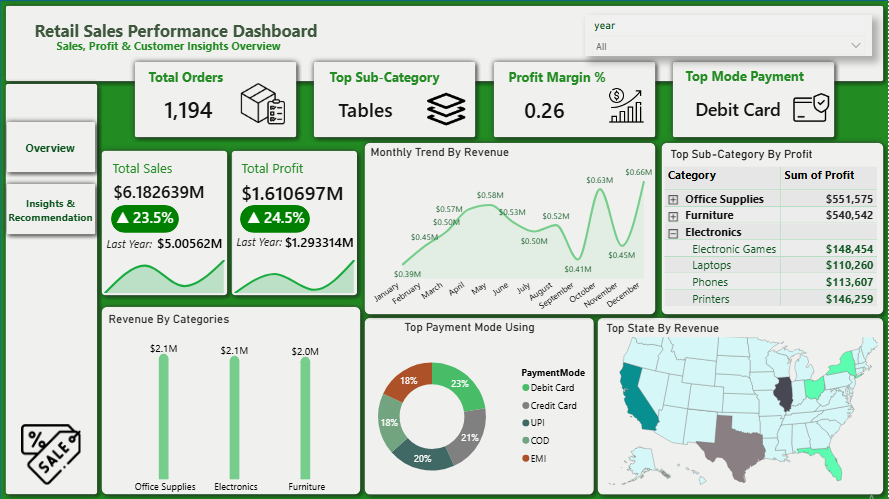

The page's visual inventory and layout, read from the dashboard file:
{"tool":"powerbi","page":{"name":"overview","canvas":[1280,720],"ordinal":0},"visuals":[{"type":"shape","box":[0,0,1279.7,720.3],"z":0},{"type":"shape","box":[0,0,1280.2,125.3],"z":1000},{"type":"shape","box":[960.5,80.6,249.1,125.3],"z":2000},{"type":"shape","box":[325.4,208.8,197,224.6],"z":3000},{"type":"shape","box":[185.8,80.6,249.1,125.3],"z":4000},{"type":"shape","box":[0,112.3,148.3,607.7],"z":5000},{"type":"shape","box":[703,80.6,249.1,125.3],"z":6000},{"type":"shape","box":[444,80.6,249.1,125.3],"z":7000},{"type":"shape","box":[138.2,433.4,388.8,286.6],"z":8000},{"type":"shape","box":[517.4,449.3,346.4,271],"z":9000},{"type":"shape","box":[852.2,449.3,427.5,271],"z":10000},{"type":"shape","box":[517,197.3,434.9,263.5],"z":11000},{"type":"shape","box":[944.6,197.3,335.5,263.5],"z":12000},{"type":"textbox","box":[208.8,93.6,136.8,51.8],"z":13000},{"type":"textbox","box":[44.9,21.7,500,59.4],"z":14000},{"type":"textbox","box":[76.8,50.7,500,59.4],"z":15000},{"type":"textbox","box":[727.2,93.6,175.7,51.8],"z":16000},{"type":"textbox","box":[469.4,93.6,213.1,51.8],"z":17000},{"type":"textbox","box":[982.1,92.2,205.9,51.8],"z":18000},{"type":"cardVisual","fields":{"Data":["date.total orders"]},"box":[207.4,112.3,139.7,86.4],"z":19000},{"type":"image","box":[345.6,89.3,66.2,119.5],"z":20000},{"type":"shape","box":[138.2,208.8,197.3,224.6],"z":21000},{"type":"cardVisual","fields":{"Data":["date.total sales"]},"box":[134,234.7,198.7,80.6],"z":22000},{"type":"cardVisual","fields":{"Data":["date.Top sub category"]},"box":[457.9,102.2,204.5,106.6],"z":23000},{"type":"cardVisual","fields":{"Data":["date.profit margin %"]},"box":[725.8,112.3,167,87.8],"z":24000},{"type":"cardVisual","fields":{"Data":["date.Top paymeny mode"]},"box":[972,109.4,205.9,90.7],"z":25000},{"type":"image","box":[1113.1,126.7,109.4,57.6],"z":26000},{"type":"image","box":[875.5,105.1,53.3,93.6],"z":27000},{"type":"image","box":[576,129.6,132.5,54.7],"z":28000},{"type":"textbox","box":[157,224.6,138.2,50.4],"z":29000},{"type":"shape","box":[159.8,295.2,97.9,40.3],"z":30000},{"type":"cardVisual","fields":{"Data":["date.yoy growth %"]},"box":[138.2,275,157,66.2],"z":31000},{"type":"textbox","box":[148.3,335.5,138.2,50.4],"z":32000},{"type":"cardVisual","fields":{"Data":["date.sales ly"]},"box":[200.2,315.4,190.1,66.2],"z":33000},{"type":"textbox","box":[342.7,224.6,138.2,50.4],"z":34000},{"type":"cardVisual","fields":{"Data":["date.total profit"]},"box":[318.2,234.7,231.8,80.6],"z":35000},{"type":"shape","box":[345.6,295.2,100.8,40.3],"z":36000},{"type":"cardVisual","fields":{"Data":["date.profit yoy %"]},"box":[326.9,275,157,66.2],"z":37000},{"type":"textbox","box":[336,332,138.2,50.4],"z":38000},{"type":"cardVisual","fields":{"Data":["date.profit ly"]},"box":[385.9,318.2,190.1,66.2],"z":39000},{"type":"lineChart","fields":{"Y":["Sum(sales_cleaned.revenue)"],"Category":["sales_cleaned.Year-Month.Variation.Date Hierarchy.Quarter"]},"box":[123.8,361.4,226.1,66.2],"z":40000},{"type":"lineChart","fields":{"Category":["sales_cleaned.Year-Month.Variation.Date Hierarchy.Quarter"],"Y":["Sum(sales_cleaned.Profit)"]},"box":[311,361.4,226.1,66.2],"z":41000},{"type":"slicer","fields":{"Values":["date.year"]},"box":[842.4,21.6,413.3,59],"z":42000},{"type":"columnChart","title":"Revenue By Categories","fields":{"Category":["sales_cleaned.Category"],"Y":["Sum(sales_cleaned.revenue)"]},"box":[151.2,449.3,377.3,270.7],"z":43000},{"type":"donutChart","title":"Top Payment Mode Using","fields":{"Category":["sales_cleaned.PaymentMode"],"Y":["Sum(sales_cleaned.revenue)"]},"box":[488.2,460.8,375.8,259.2],"z":44000},{"type":"lineChart","title":"Monthly Trend By Revenue","fields":{"Category":["sales_cleaned.Year-Month.Variation.Date Hierarchy.Month"],"Y":["Sum(sales_cleaned.revenue)"]},"box":[528.5,208.8,416.2,259.2],"z":45000},{"type":"shapeMap","title":"Top State By Revenue","fields":{"Category":["sales_cleaned.State"],"Series":["sales_cleaned.revenue"]},"box":[864,460.8,404.6,259.2],"z":46000},{"type":"pivotTable","fields":{"Rows":["sales_cleaned.Category","sales_cleaned.Sub-Category"],"Values":["Sum(sales_cleaned.Profit)"]},"box":[951.8,234.7,316.8,221.8],"z":47000},{"type":"textbox","box":[960.5,205.9,262.1,50.4],"z":48000},{"type":"shape","box":[1.4,256.3,144,89.3],"z":49000},{"type":"actionButton","box":[4.3,270.7,136.8,64.8],"z":50000},{"type":"shape","box":[1.4,167,144,89.3],"z":51000},{"type":"textbox","box":[31.7,197.3,102.2,50.4],"z":52000},{"type":"image","box":[30.2,604.8,86.4,99.4],"z":53000}]}

Visuals, with their boxes in screenshot pixels (x1, y1, x2, y2), scaled from the page's 1280x720 canvas onto the 889x499 screenshot:
shape: (x1=0, y1=0, x2=888, y2=498)
shape: (x1=0, y1=0, x2=888, y2=87)
shape: (x1=667, y1=56, x2=840, y2=143)
shape: (x1=226, y1=145, x2=363, y2=300)
shape: (x1=129, y1=56, x2=302, y2=143)
shape: (x1=0, y1=78, x2=103, y2=498)
shape: (x1=488, y1=56, x2=661, y2=143)
shape: (x1=308, y1=56, x2=481, y2=143)
shape: (x1=96, y1=300, x2=366, y2=498)
shape: (x1=359, y1=311, x2=600, y2=498)
shape: (x1=592, y1=311, x2=888, y2=498)
shape: (x1=359, y1=137, x2=661, y2=319)
shape: (x1=656, y1=137, x2=888, y2=319)
textbox: (x1=145, y1=65, x2=240, y2=101)
textbox: (x1=31, y1=15, x2=378, y2=56)
textbox: (x1=53, y1=35, x2=401, y2=76)
textbox: (x1=505, y1=65, x2=627, y2=101)
textbox: (x1=326, y1=65, x2=474, y2=101)
textbox: (x1=682, y1=64, x2=825, y2=100)
cardVisual - date.total orders: (x1=144, y1=78, x2=241, y2=138)
image: (x1=240, y1=62, x2=286, y2=145)
shape: (x1=96, y1=145, x2=233, y2=300)
cardVisual - date.total sales: (x1=93, y1=163, x2=231, y2=219)
cardVisual - date.Top sub category: (x1=318, y1=71, x2=460, y2=145)
cardVisual - date.profit margin %: (x1=504, y1=78, x2=620, y2=139)
cardVisual - date.Top paymeny mode: (x1=675, y1=76, x2=818, y2=139)
image: (x1=773, y1=88, x2=849, y2=128)
image: (x1=608, y1=73, x2=645, y2=138)
image: (x1=400, y1=90, x2=492, y2=128)
textbox: (x1=109, y1=156, x2=205, y2=191)
shape: (x1=111, y1=205, x2=179, y2=233)
cardVisual - date.yoy growth %: (x1=96, y1=191, x2=205, y2=236)
textbox: (x1=103, y1=233, x2=199, y2=267)
cardVisual - date.sales ly: (x1=139, y1=219, x2=271, y2=264)
textbox: (x1=238, y1=156, x2=334, y2=191)
cardVisual - date.total profit: (x1=221, y1=163, x2=382, y2=219)
shape: (x1=240, y1=205, x2=310, y2=233)
cardVisual - date.profit yoy %: (x1=227, y1=191, x2=336, y2=236)
textbox: (x1=233, y1=230, x2=329, y2=265)
cardVisual - date.profit ly: (x1=268, y1=221, x2=400, y2=266)
lineChart - Sum(sales_cleaned.revenue) x sales_cleaned.Year-Month.Variation.Date Hierarchy.Quarter: (x1=86, y1=250, x2=243, y2=296)
lineChart - sales_cleaned.Year-Month.Variation.Date Hierarchy.Quarter x Sum(sales_cleaned.Profit): (x1=216, y1=250, x2=373, y2=296)
slicer - date.year: (x1=585, y1=15, x2=872, y2=56)
"Revenue By Categories" columnChart: (x1=105, y1=311, x2=367, y2=498)
"Top Payment Mode Using" donutChart: (x1=339, y1=319, x2=600, y2=498)
"Monthly Trend By Revenue" lineChart: (x1=367, y1=145, x2=656, y2=324)
"Top State By Revenue" shapeMap: (x1=600, y1=319, x2=881, y2=498)
pivotTable - sales_cleaned.Category x sales_cleaned.Sub-Category: (x1=661, y1=163, x2=881, y2=316)
textbox: (x1=667, y1=143, x2=849, y2=178)
shape: (x1=1, y1=178, x2=101, y2=240)
actionButton: (x1=3, y1=188, x2=98, y2=233)
shape: (x1=1, y1=116, x2=101, y2=178)
textbox: (x1=22, y1=137, x2=93, y2=172)
image: (x1=21, y1=419, x2=81, y2=488)
